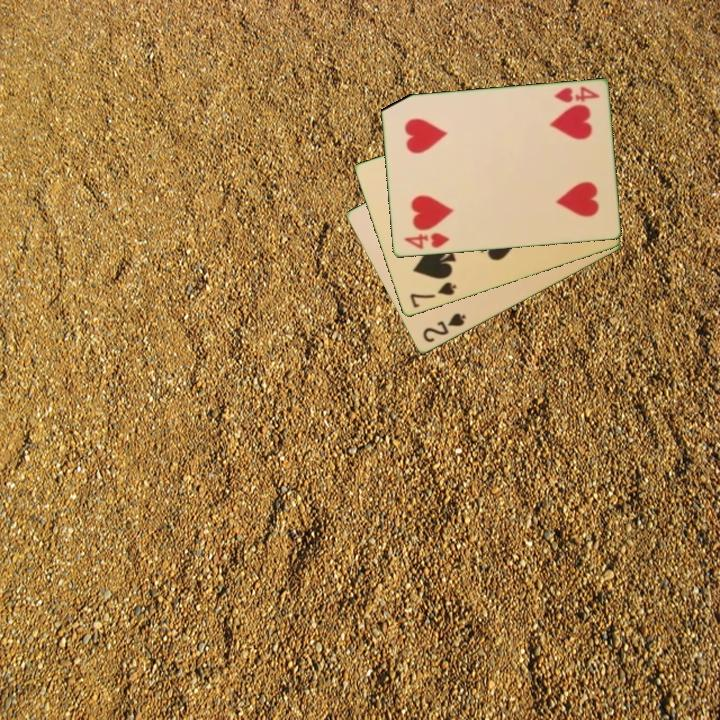2s: (419, 310, 469, 346)
4h: (400, 229, 452, 252), (551, 83, 602, 106)
7s: (406, 279, 459, 311)
